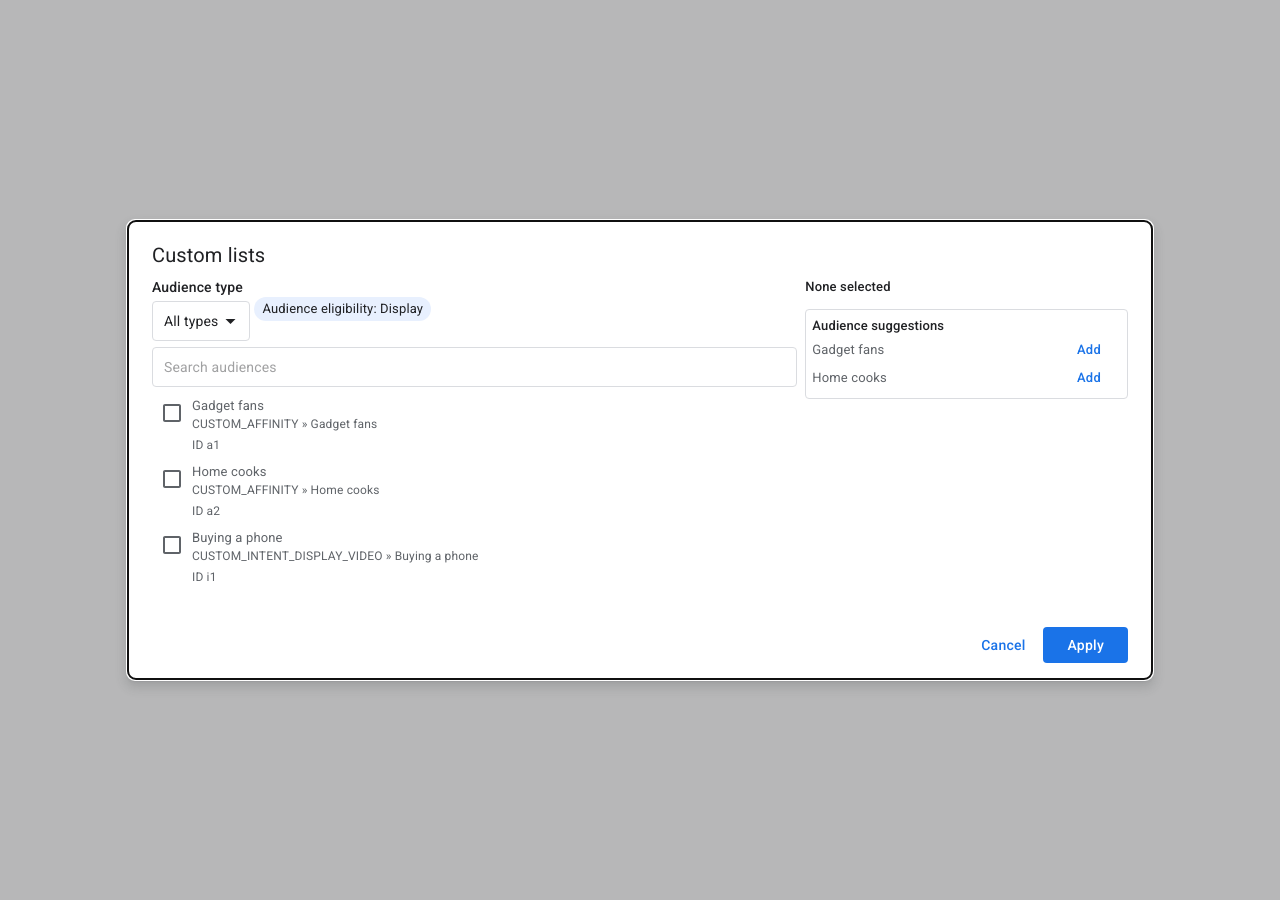
Test case: AudiencePicker: custom lists (module 10 2.5, module 14 S2) › offers Custom affinity and Custom intent (Display, Video) with counts, and hides YouTube intent on Display
Click the dropdown named "Audience type": (191, 321) [164,313,218,329]
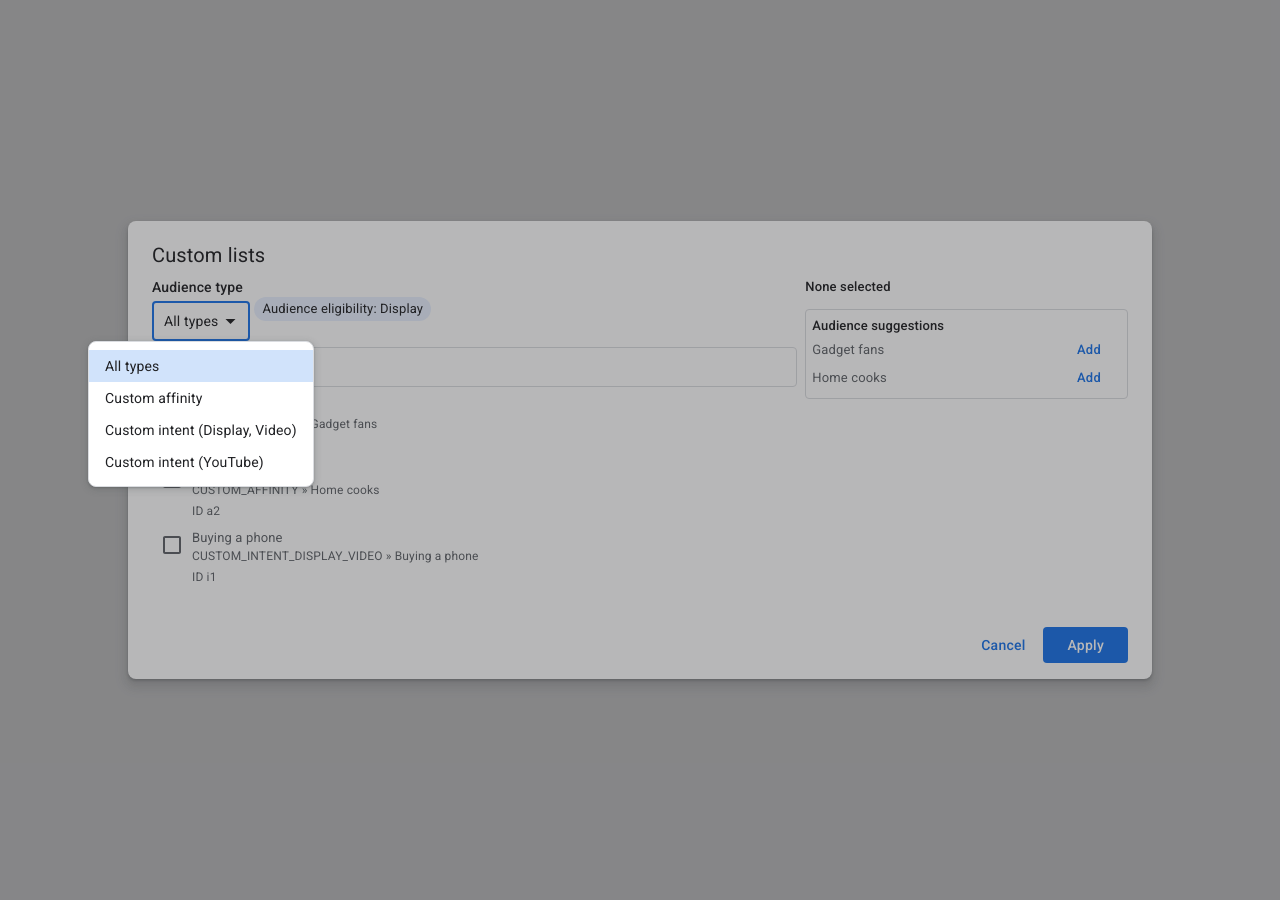
Expected: the option "Custom affinity" is shown, [105,390,203,406]
Expected: the option "Custom intent (Display, Video)" is shown, [105,422,297,438]
Expected: the option "Custom intent (YouTube)" is shown, [105,454,264,470]
